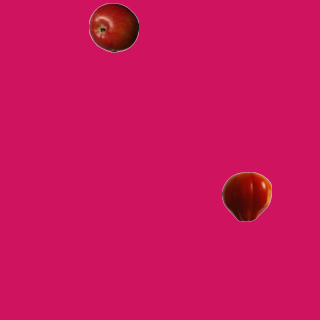Apple Braeburn: (88, 2, 138, 52)
Tomato 1: (221, 171, 271, 221)
